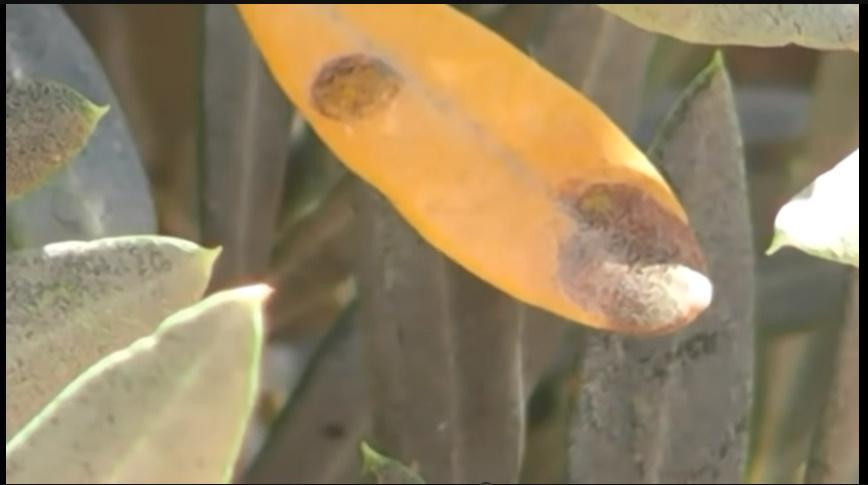OlivePeacockSpot: (236, 7, 714, 326)
